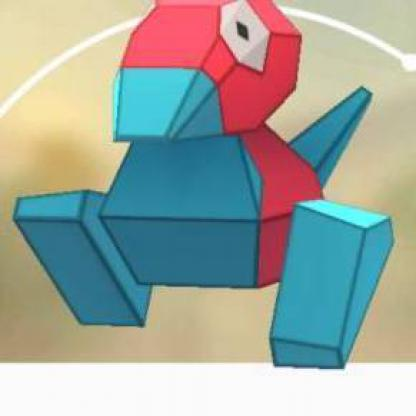Porygon: (1, 1, 399, 378)
